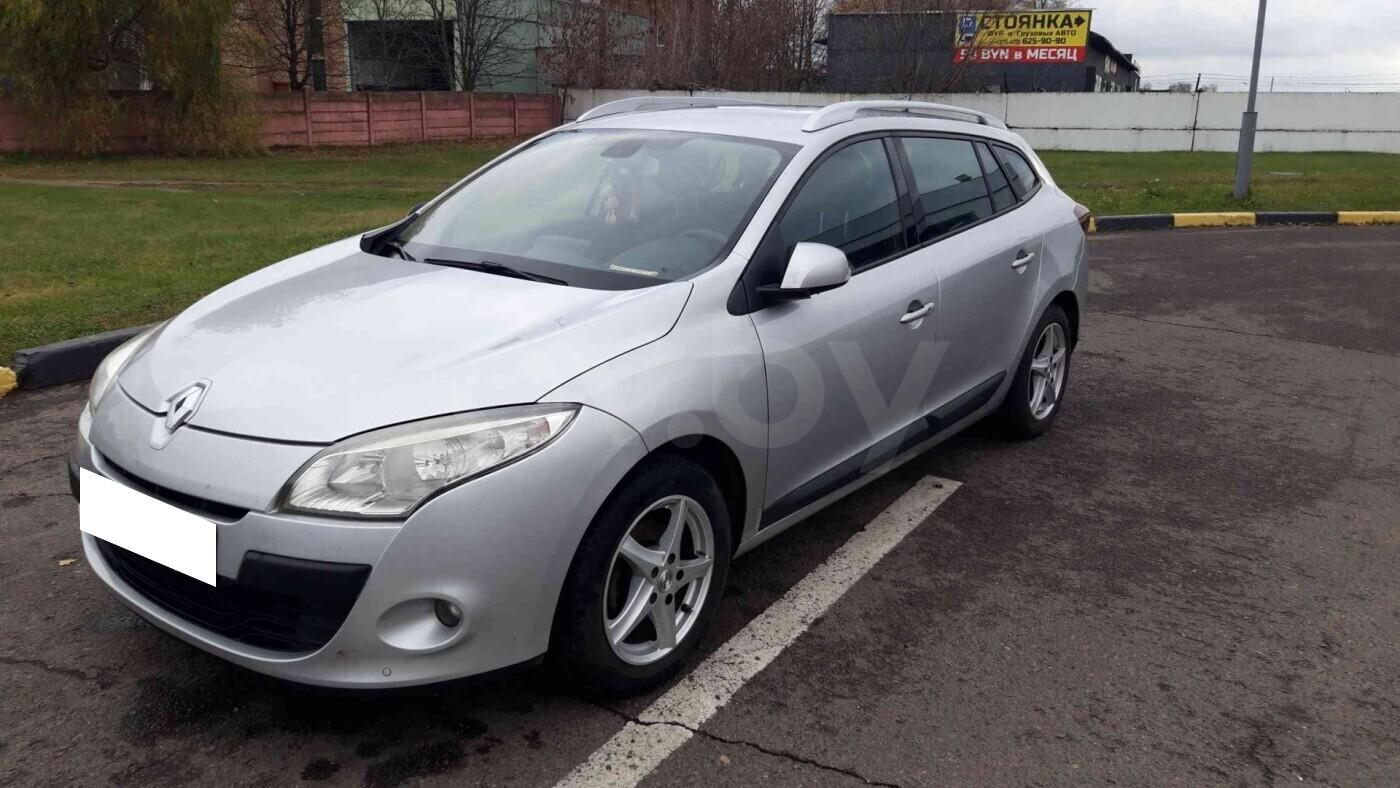Megane_2008-2014: (56, 95, 1090, 697)
